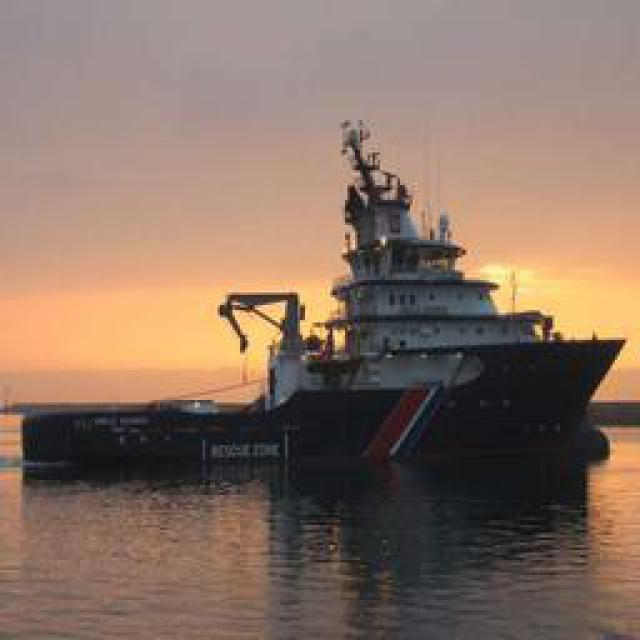Ship: (13, 134, 620, 490)
